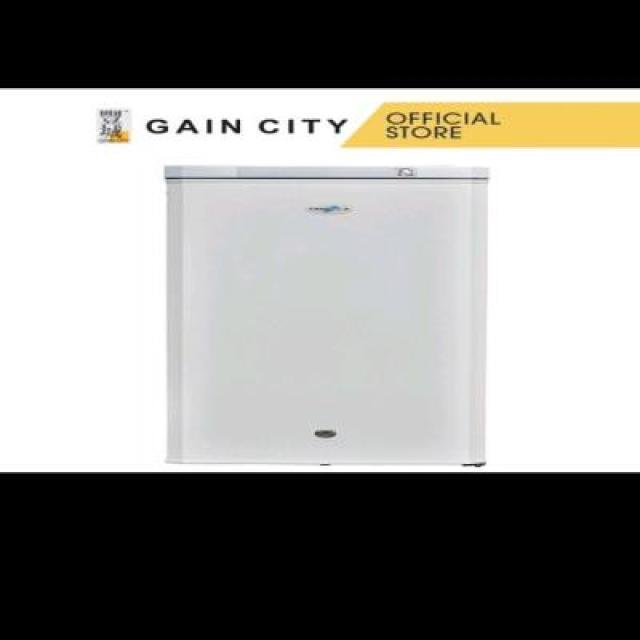refrigerator: (162, 164, 486, 466)
